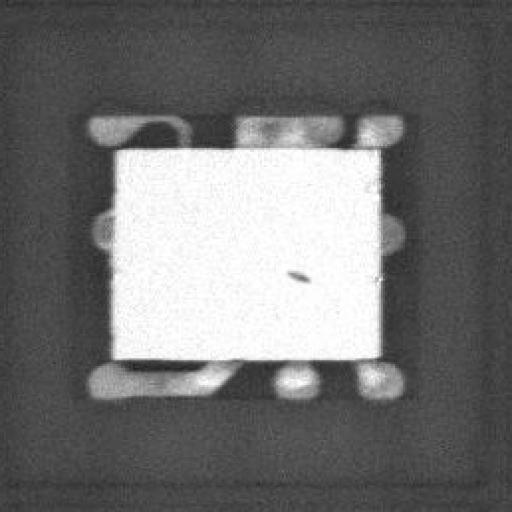DIE_INK: (269, 280, 294, 296)
